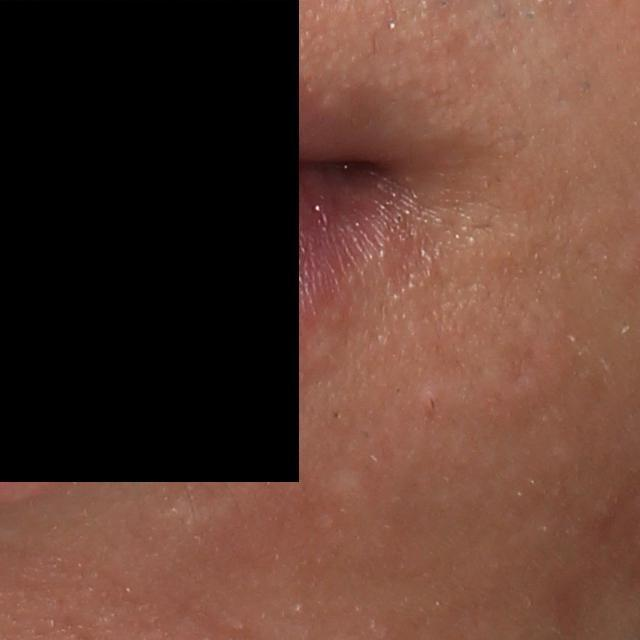comedo: (419, 388, 443, 414)
hypertrophic_scar: (327, 459, 376, 525)
